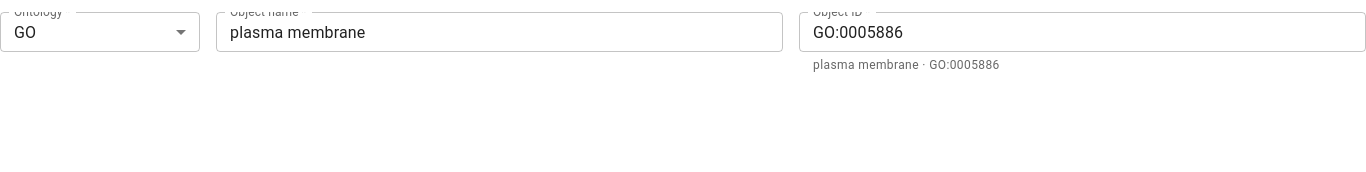
clearing the object name also clears the ID and does not snap the name back
# The resolvable ID backfills the empty name first.
Clear the field labelled "Object name *": (500, 32) top-left (216, 12), bottom-right (783, 52)
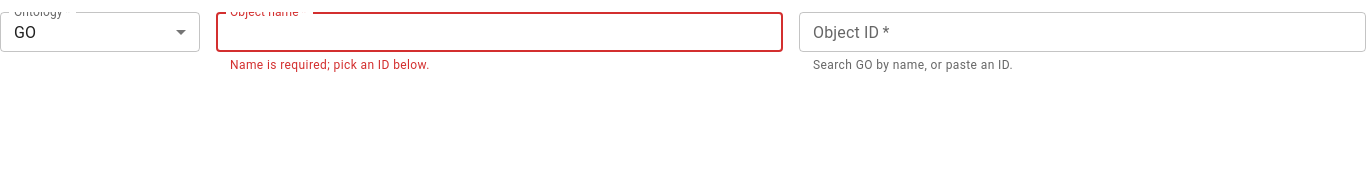
Now the dropdown labelled "Object ID *" is empty, box top-left (805, 18), bottom-right (1357, 46)
